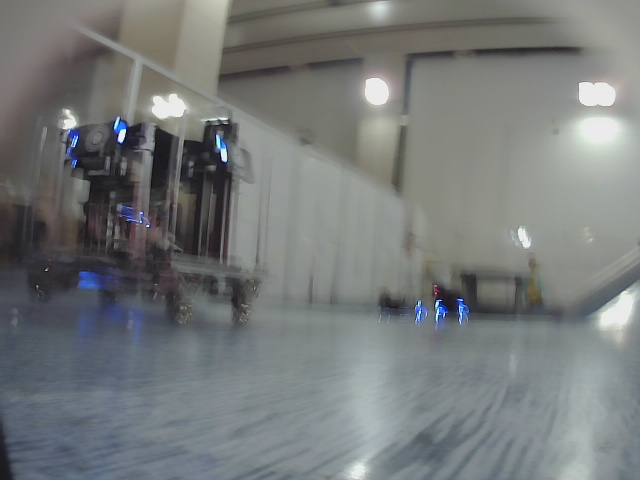pair: (69, 130, 125, 150)
